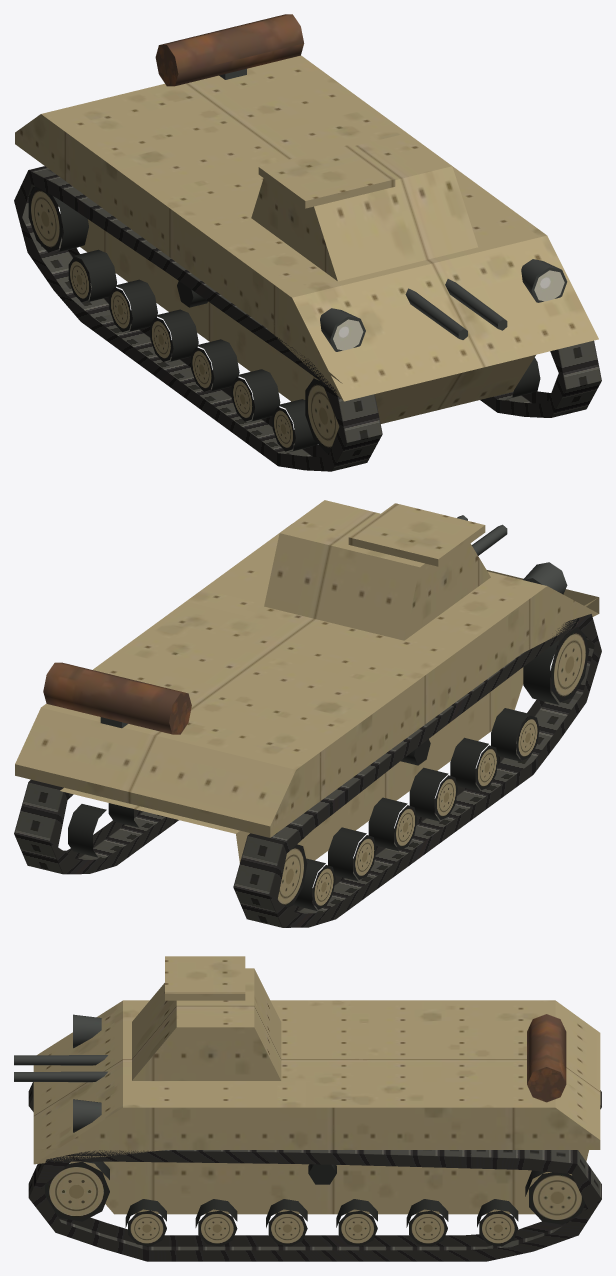
File: armor-1.glb
3 renders of one model, top to bottom at view 1: azimuth 30°, elevation 25°; view 2: azimuth 150°, elevation 25°; view 3: azimuth 270°, elevation 25°, orthographic. The views are drawn at different scales.
Visible parts, largest first — view 1: hull, tracks_right, hatch, tracks_left, roue_folle_right, galet_right_5, galet_right_2, galet_right_1, galet_right_3, galet_right_4, gun, galet_right_6 (+2 smaller); view 2: hull, tracks_right, tracks_left, hatch, barbotin_right, galet_right_3, galet_right_5, galet_right_4, galet_right_6, galet_right_2, galet_right_1, galet_left_1 (+1 smaller); view 3: hull, tracks_left, hatch, barbotin_left, roue_folle_left, gun, galet_left_5, galet_left_2, galet_left_3, galet_left_4, galet_left_1, galet_left_6.
Boxes of the visible parts, x1=… form: hull: x1=15, y1=14, x2=598, y2=423; tracks_right: x1=14, y1=166, x2=382, y2=471; hatch: x1=258, y1=145, x2=395, y2=208; tracks_left: x1=480, y1=340, x2=601, y2=417; roue_folle_right: x1=28, y1=186, x2=88, y2=253; galet_right_5: x1=231, y1=369, x2=280, y2=422; galet_right_2: x1=109, y1=279, x2=157, y2=333; galet_right_1: x1=68, y1=249, x2=116, y2=302; galet_right_3: x1=150, y1=309, x2=198, y2=362; galet_right_4: x1=191, y1=339, x2=239, y2=392; gun: x1=405, y1=279, x2=507, y2=339; galet_right_6: x1=272, y1=399, x2=317, y2=451; hull: x1=15, y1=500, x2=599, y2=862; tracks_right: x1=233, y1=614, x2=601, y2=927; tracks_left: x1=14, y1=779, x2=178, y2=874; hatch: x1=348, y1=503, x2=485, y2=566; barbotin_right: x1=523, y1=628, x2=589, y2=704; galet_right_3: x1=368, y1=797, x2=417, y2=851; galet_right_5: x1=450, y1=737, x2=498, y2=791; galet_right_4: x1=409, y1=767, x2=457, y2=821; galet_right_6: x1=491, y1=708, x2=539, y2=761; galet_right_2: x1=328, y1=827, x2=376, y2=880; galet_right_1: x1=293, y1=858, x2=335, y2=910; galet_left_1: x1=68, y1=804, x2=106, y2=857; hull: x1=33, y1=968, x2=600, y2=1214; tracks_left: x1=28, y1=1150, x2=601, y2=1261; hatch: x1=165, y1=956, x2=245, y2=1000; barbotin_left: x1=41, y1=1161, x2=109, y2=1221; roue_folle_left: x1=525, y1=1170, x2=585, y2=1224; gun: x1=14, y1=1055, x2=107, y2=1082; galet_left_5: x1=195, y1=1199, x2=237, y2=1246; galet_left_2: x1=406, y1=1199, x2=448, y2=1246; galet_left_3: x1=336, y1=1199, x2=377, y2=1246; galet_left_4: x1=266, y1=1199, x2=307, y2=1246; galet_left_1: x1=477, y1=1199, x2=518, y2=1246; galet_left_6: x1=125, y1=1199, x2=166, y2=1246.
Size of the model in its own units: 1.42 by 1.32 by 3.29.
Materials: 5 (5 with a texture image).
